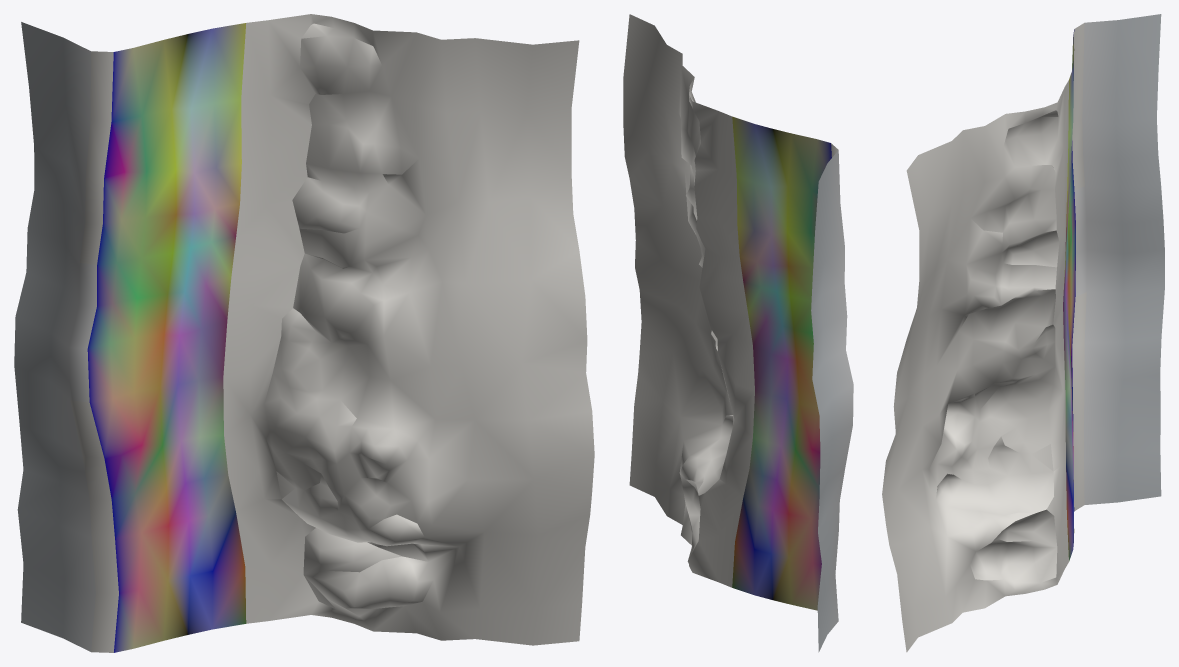
The model's file is Volcano_StraightA_lod1.glb.
3 views of the same model, side by side, from view 1: azimuth 30°, elevation 25°; view 2: azimuth 150°, elevation 25°; view 3: azimuth 270°, elevation 25° (orthographic). The views are drawn at different scales.
Parts seen in each view (by area): view 1: MeshNode_0, MeshNode_1; view 2: MeshNode_0, MeshNode_1; view 3: MeshNode_0, MeshNode_1.
Part boxes in pixels (x1,y1,x2,y2): MeshNode_0: (14, 14, 594, 652); MeshNode_1: (87, 23, 246, 652); MeshNode_0: (623, 14, 853, 652); MeshNode_1: (732, 116, 831, 610); MeshNode_0: (882, 14, 1164, 652); MeshNode_1: (1063, 29, 1075, 561).
Size of the model in its own units: 90.11 by 128 by 68.03.
